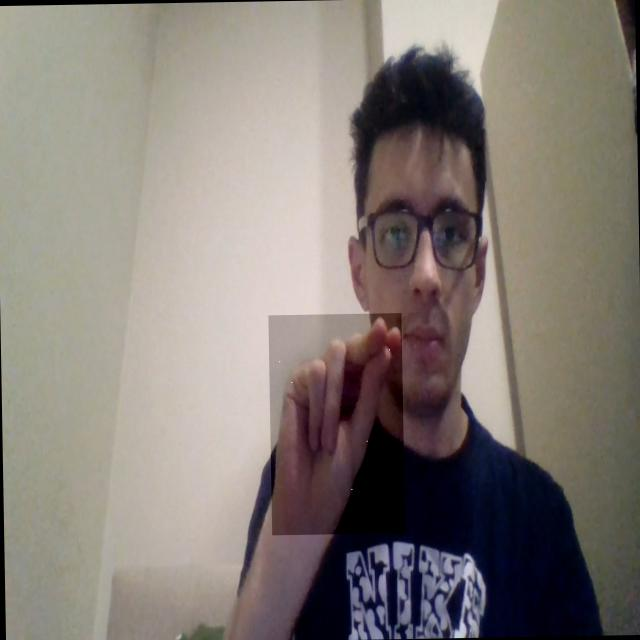no: (268, 312, 405, 534)
